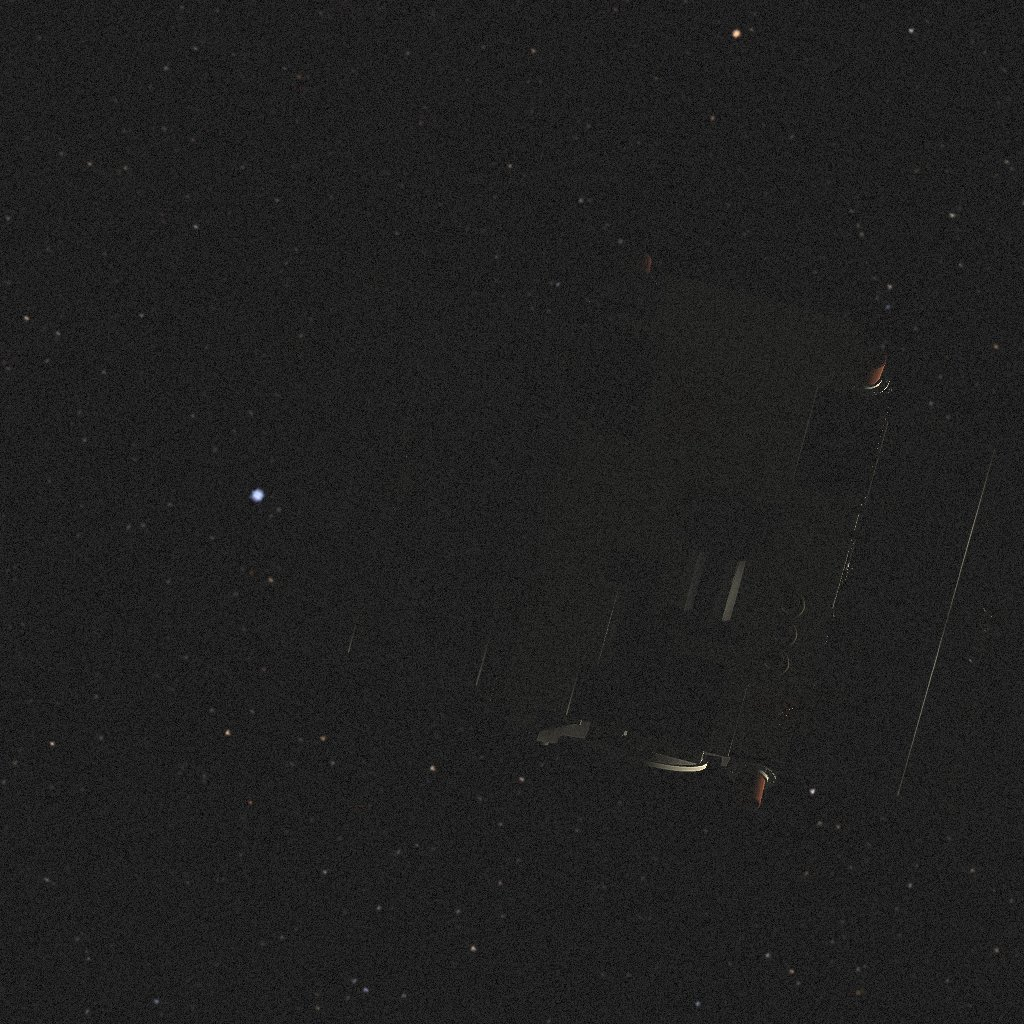proba_2: (261, 250, 1024, 844)
